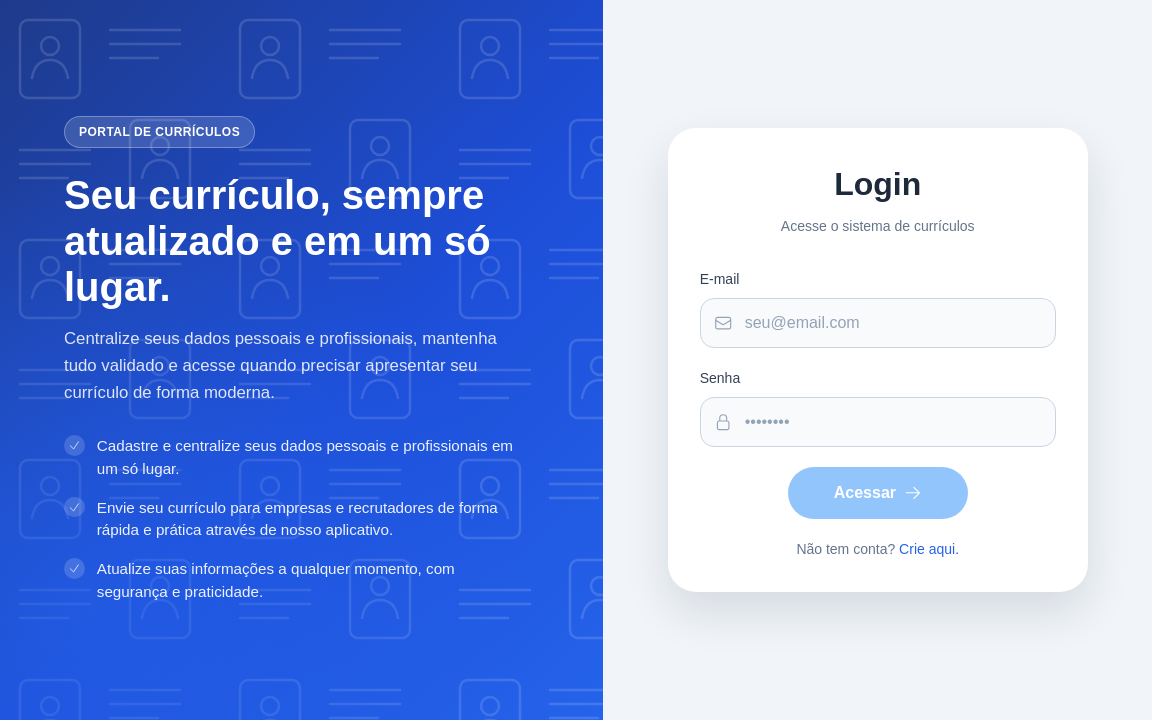
Test: LoginPage › disables the submit button until both fields are filled
Expected: the button "Acessar" is disabled, [788,467,968,519]
Type "user@example.com" into the field labelled "E-mail" at point(878, 323), box [700,298,1056,348]
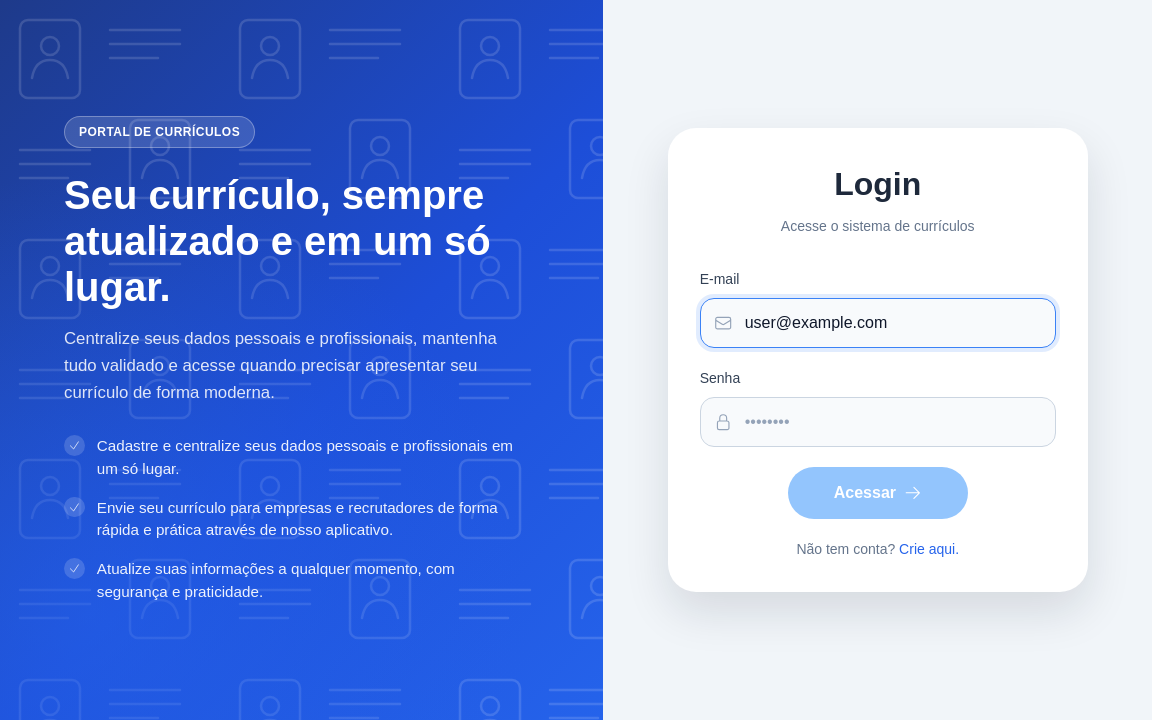
Expected: the button "Acessar" is disabled, [788,467,968,519]
Type "123456" into the password field labelled "Senha" at point(878, 422), box [700,397,1056,447]
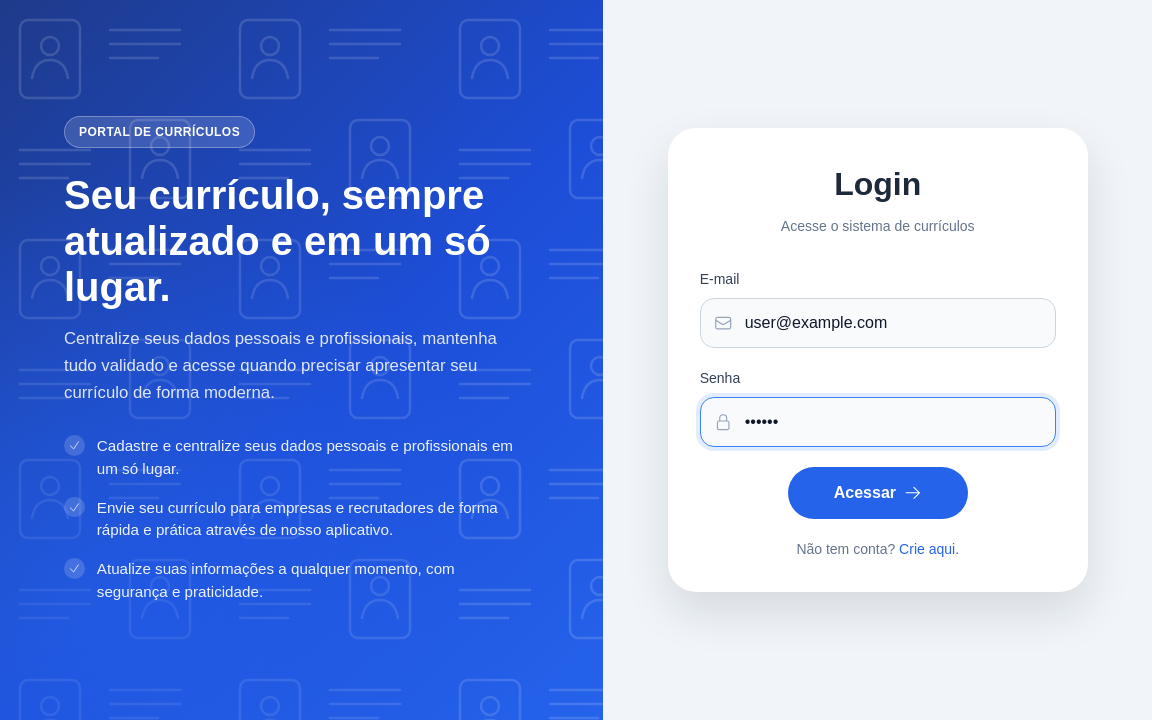
Now the button "Acessar" is enabled, box [788,467,968,519]
